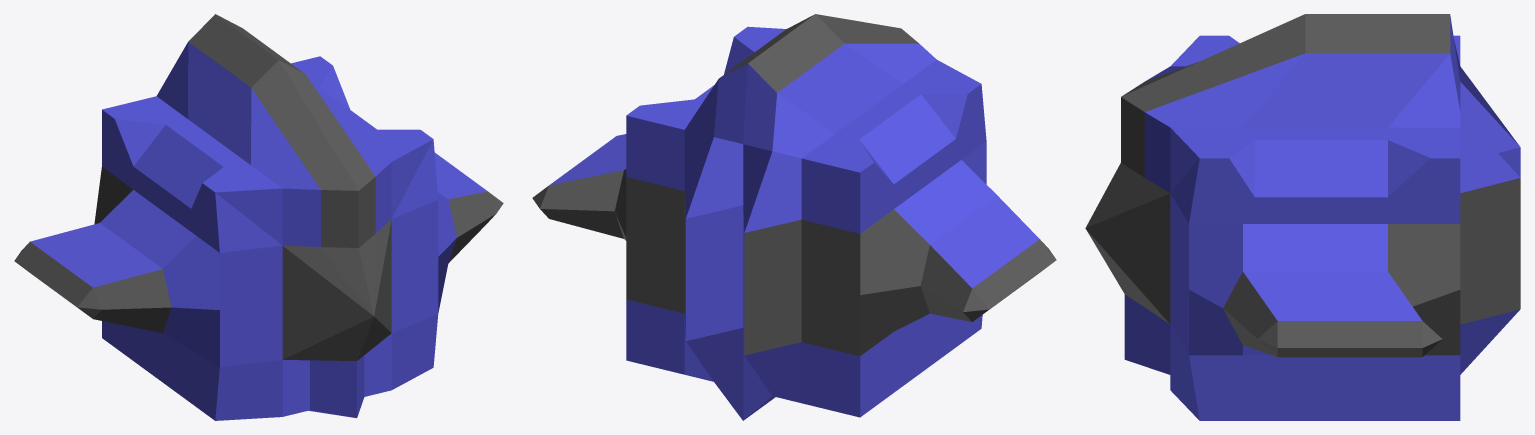
The model's file is AlienMothership.glb.
3 views of the same model, side by side, from view 1: azimuth 30°, elevation 25°; view 2: azimuth 150°, elevation 25°; view 3: azimuth 270°, elevation 25° (orthographic). The views are drawn at different scales.
Visible parts, largest first — view 1: Cube; view 2: Cube; view 3: Cube.
Boxes of the visible parts, x1,y1,x2,y2 form: Cube: [14, 14, 503, 420]; Cube: [532, 14, 1056, 420]; Cube: [1085, 14, 1520, 420].
Bounding box in the file's own units: 4.61 × 3.41 × 3.54.
